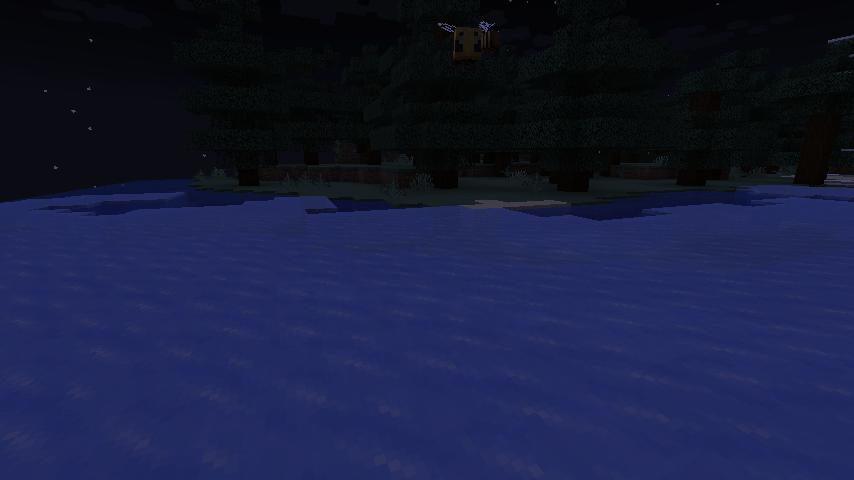bee: (436, 18, 487, 65)
